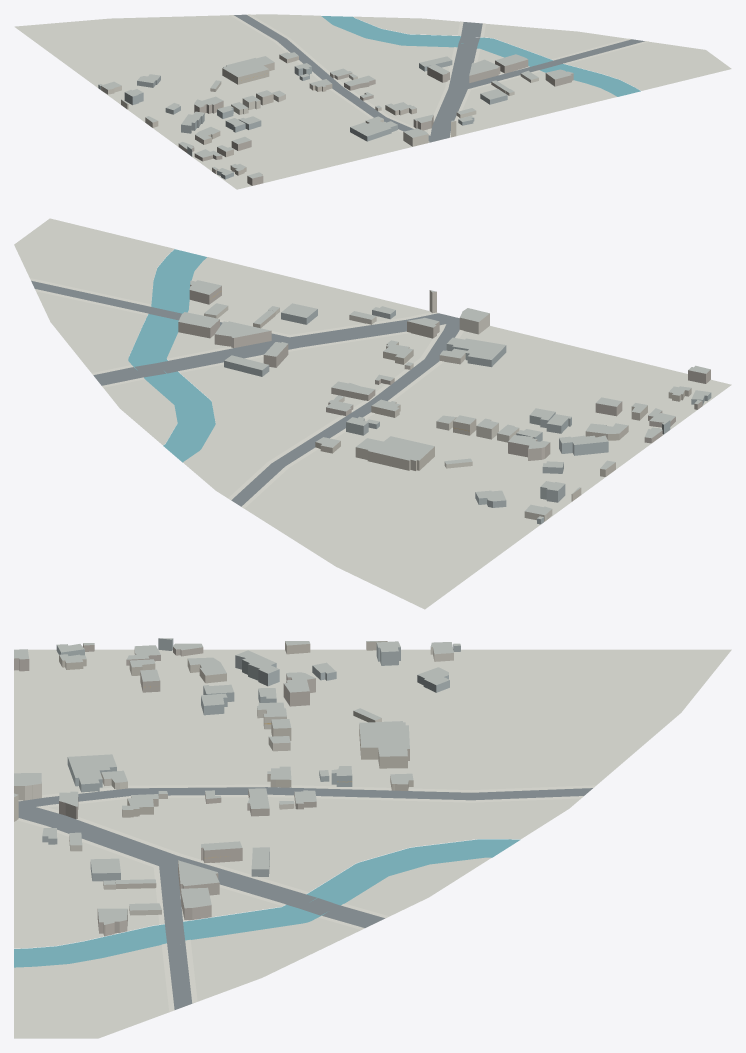
3 views of the same model, one above another, from view 1: azimuth 30°, elevation 25°; view 2: azimuth 150°, elevation 25°; view 3: azimuth 270°, elevation 25° (orthographic). The views are drawn at different scales.
Visible parts, largest first — view 1: city; view 2: city; view 3: city.
Part boxes in pixels (bbox=[...]): city: bbox=[14, 14, 731, 189]; city: bbox=[14, 218, 731, 609]; city: bbox=[14, 638, 731, 1038].
Bounding box in the file's own units: 500 × 14.98 × 390.
